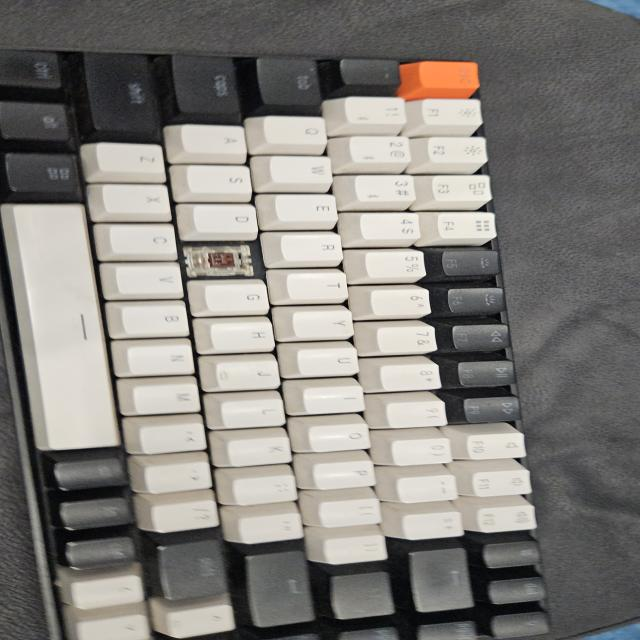C: (196, 246, 264, 283)
